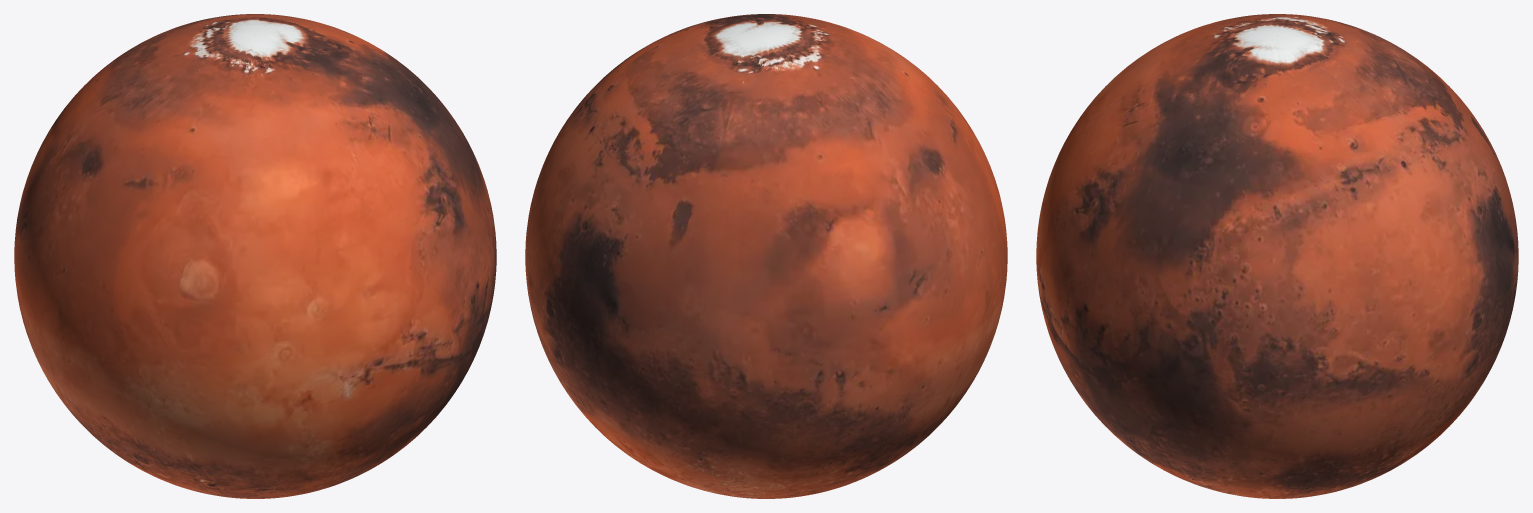
Rendered from mars-transformed.glb.
3 views of the same model, side by side, from view 1: azimuth 30°, elevation 25°; view 2: azimuth 150°, elevation 25°; view 3: azimuth 270°, elevation 25° (orthographic).
Visible parts, largest first — view 1: Object_2; view 2: Object_2; view 3: Object_2.
Boxes of the visible parts, left/top/right/bottom form: Object_2: left=14, top=14, right=496, bottom=498; Object_2: left=525, top=14, right=1007, bottom=498; Object_2: left=1036, top=14, right=1518, bottom=498.
Bounding box in the file's own units: 1.97 × 2 × 1.97.
1 material, 1 textured.
